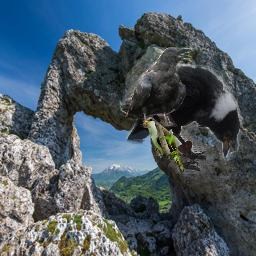Crow: (120, 62, 242, 174), (125, 47, 193, 128)
Cuckoo: (141, 117, 187, 172)
